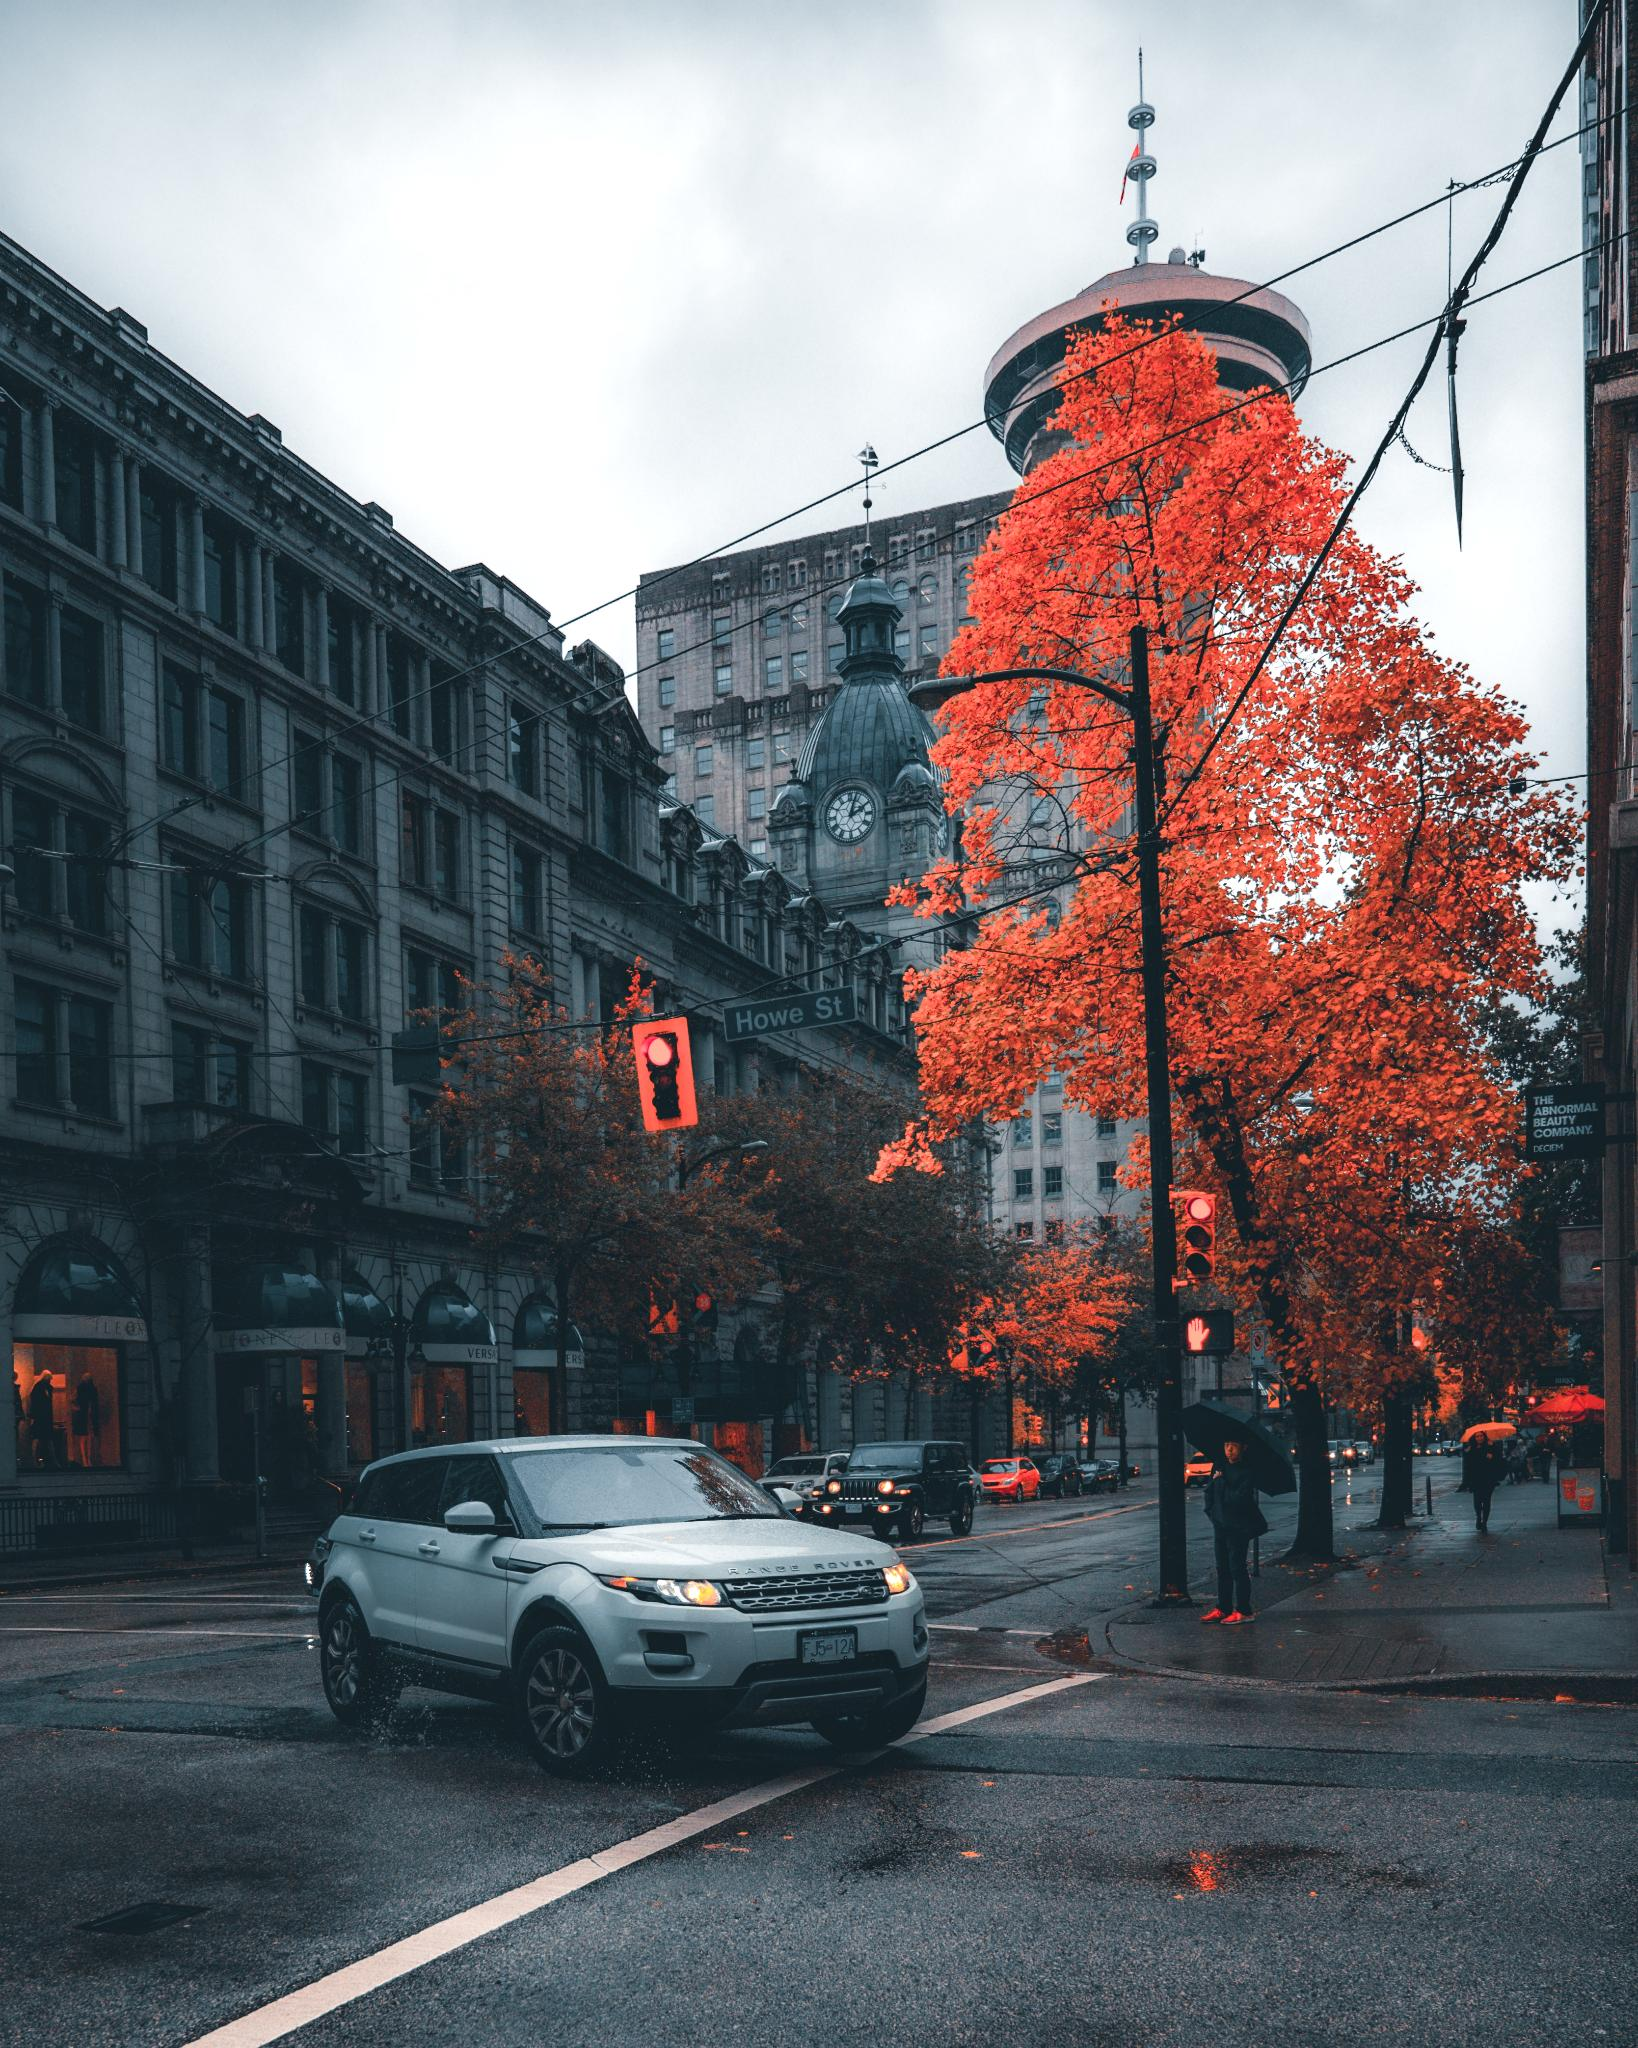range rover: (717, 1540, 898, 1592)
